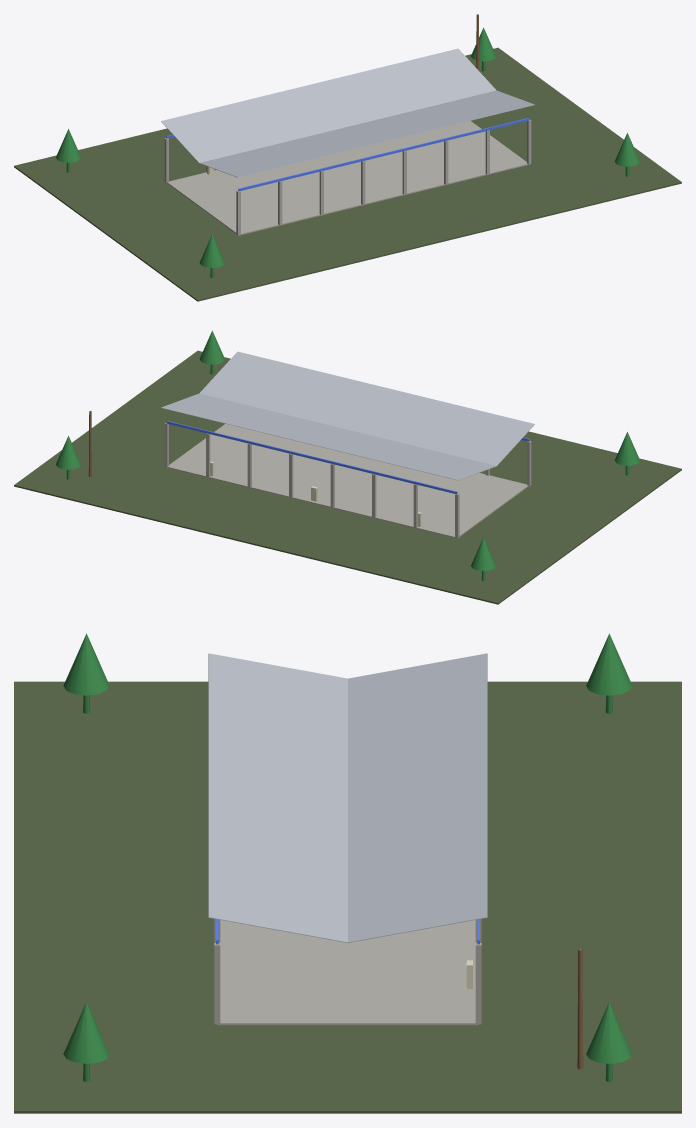
Rendered from galpao.glb.
3 renders of one model, top to bottom at view 1: azimuth 30°, elevation 25°; view 2: azimuth 150°, elevation 25°; view 3: azimuth 270°, elevation 25°, orthographic. The views are drawn at different scales.
Parts seen in each view (by area): view 1: chao, telhado, laje, arvore.004, arvore.001, arvore.003, arvore.002; view 2: chao, telhado, laje, arvore.002, arvore.003, arvore.004, arvore.001; view 3: chao, telhado, laje, arvore.001, arvore.003, arvore.002, arvore.004.
Part boxes in pixels (left/top/right/bottom): chao: left=14, top=47, right=681, bottom=301; telhado: left=161, top=48, right=534, bottom=177; laje: left=167, top=121, right=528, bottom=235; arvore.004: left=614, top=133, right=639, bottom=176; arvore.001: left=56, top=129, right=81, bottom=172; arvore.003: left=199, top=234, right=224, bottom=277; arvore.002: left=471, top=27, right=496, bottom=71; chao: left=14, top=350, right=681, bottom=604; telhado: left=161, top=351, right=534, bottom=480; laje: left=167, top=424, right=528, bottom=538; arvore.002: left=56, top=436, right=81, bottom=479; arvore.003: left=614, top=432, right=639, bottom=475; arvore.004: left=199, top=330, right=224, bottom=374; arvore.001: left=471, top=537, right=496, bottom=580; chao: left=14, top=681, right=681, bottom=1113; telhado: left=208, top=653, right=487, bottom=943; laje: left=217, top=920, right=478, bottom=1025; arvore.001: left=586, top=633, right=632, bottom=713; arvore.003: left=63, top=633, right=109, bottom=713; arvore.002: left=586, top=1002, right=632, bottom=1081; arvore.004: left=63, top=1002, right=109, bottom=1081.
Size of the model in its own units: 70 by 9.2 by 46.
